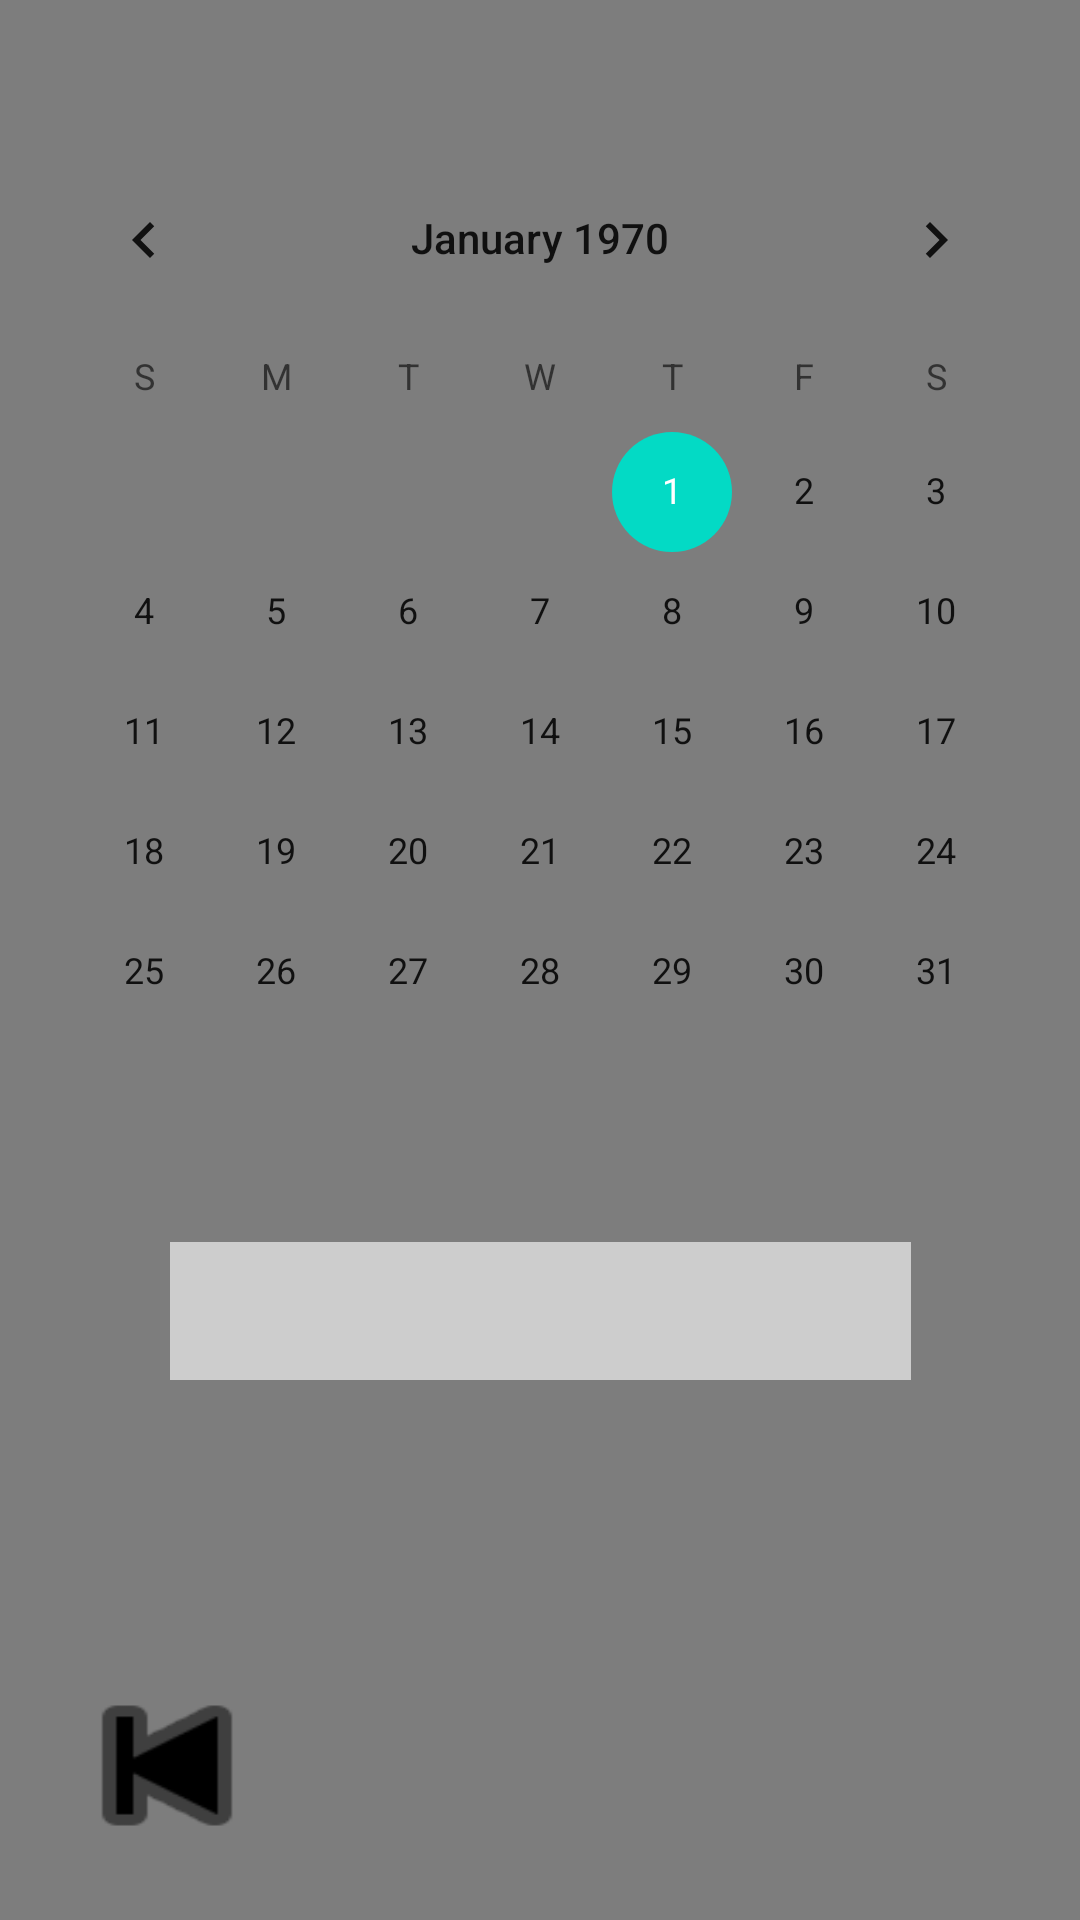

Named icons in this screenshot (1080w x 1920h) and their bounding boxes, (x1, y1, x2, y2):
previous: (102, 1705, 232, 1826)
